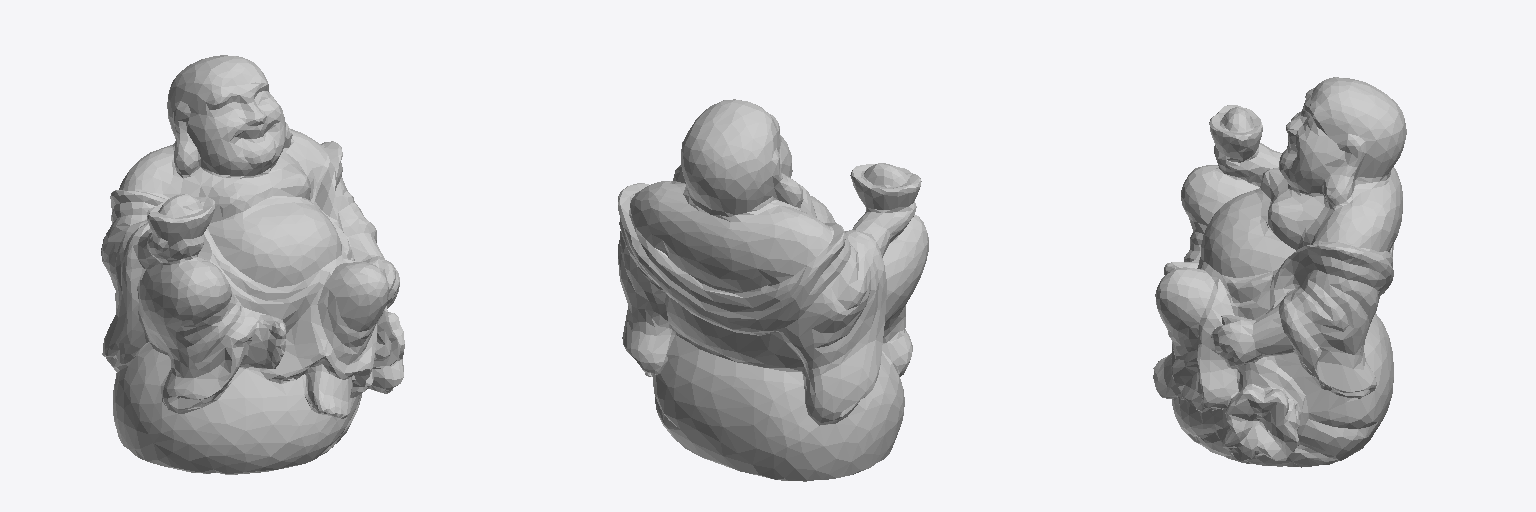
File: modello buddha.obj
3 views of the same model, side by side, from view 1: azimuth 30°, elevation 25°; view 2: azimuth 150°, elevation 25°; view 3: azimuth 270°, elevation 25° (orthographic).
Visible parts, largest first — view 1: buddha4; view 2: buddha4; view 3: buddha4.
Boxes of the visible parts, <box> form: buddha4: <box>101,55,404,474</box>; buddha4: <box>618,99,928,481</box>; buddha4: <box>1153,77,1406,467</box>.
Bounding box in the file's own units: 18.9 × 24.17 × 16.01.